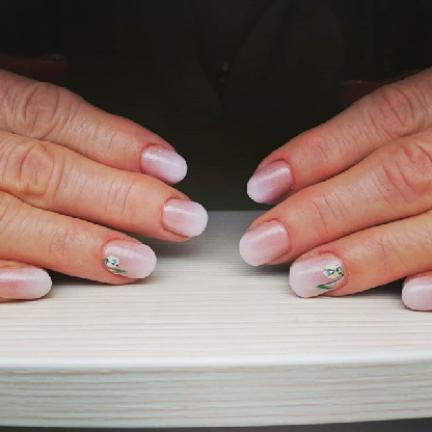Nail: (289, 253, 345, 297), (239, 220, 290, 265), (103, 240, 158, 279), (247, 160, 294, 203), (140, 145, 187, 184), (162, 199, 208, 237), (0, 267, 51, 299), (402, 271, 432, 310)
